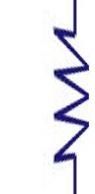resistor: (33, 15, 91, 166)
